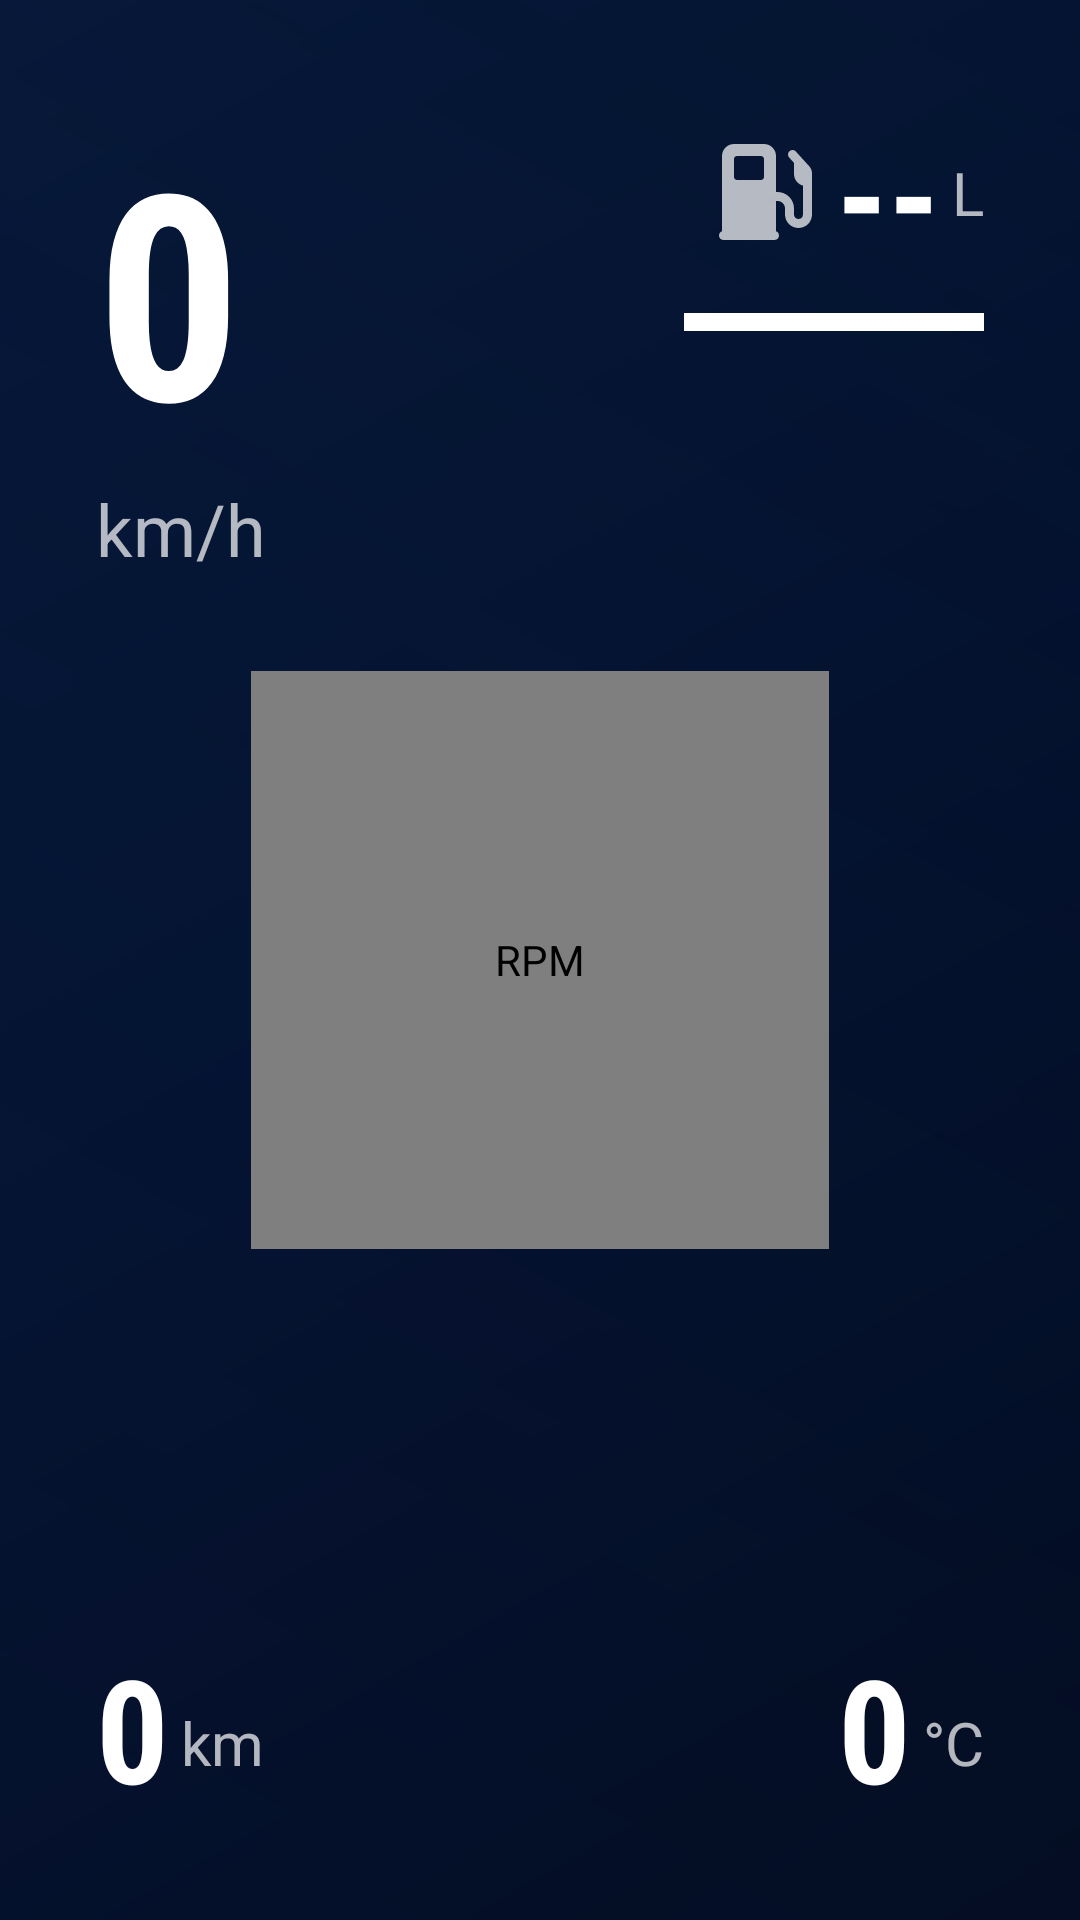

Screen size 1080*1920. Icon name, then its center in pixels as [x,y]:
Fuel: [765,192]
